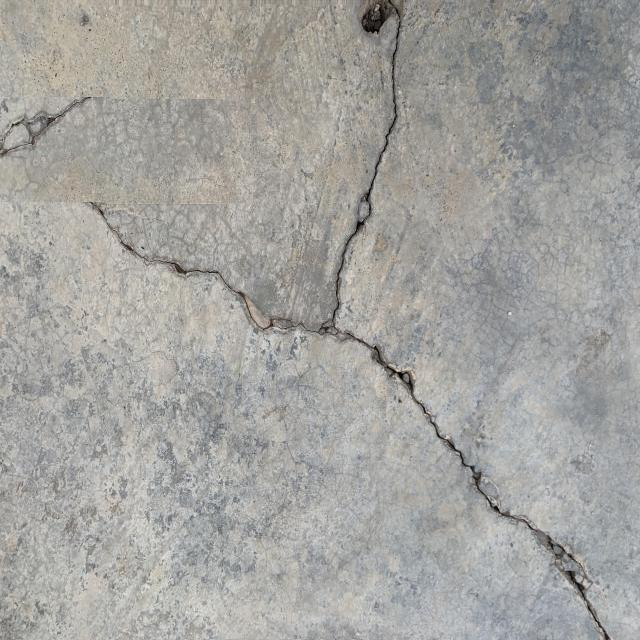multi-branched crack: (77, 1, 639, 640), (3, 90, 100, 180)
